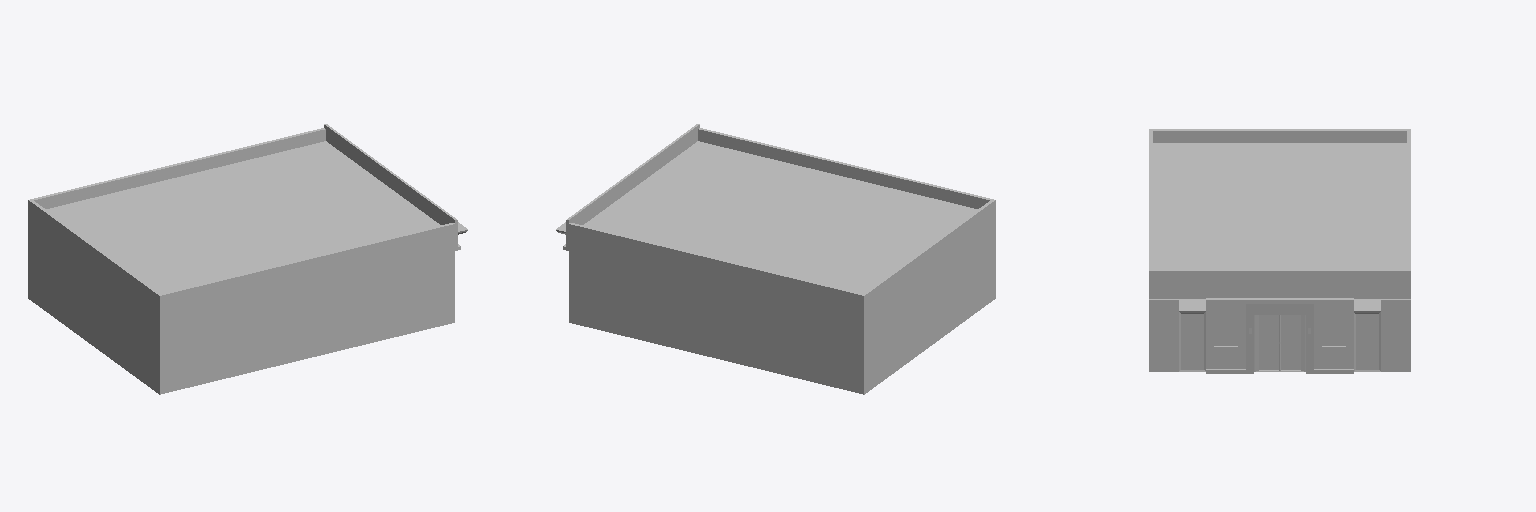
The model's file is project toko.obj.
3 renders of one model, left to right at view 1: azimuth 30°, elevation 25°; view 2: azimuth 150°, elevation 25°; view 3: azimuth 270°, elevation 25°, orthographic.
Parts seen in each view (by area): view 1: Tiny_Store; view 2: Tiny_Store; view 3: Tiny_Store.
Boxes of the visible parts, <box> form: Tiny_Store: <box>28,124,467,394</box>; Tiny_Store: <box>556,124,995,394</box>; Tiny_Store: <box>1149,129,1410,373</box>.
Size of the model in its own units: 14.25 by 4.3 by 10.